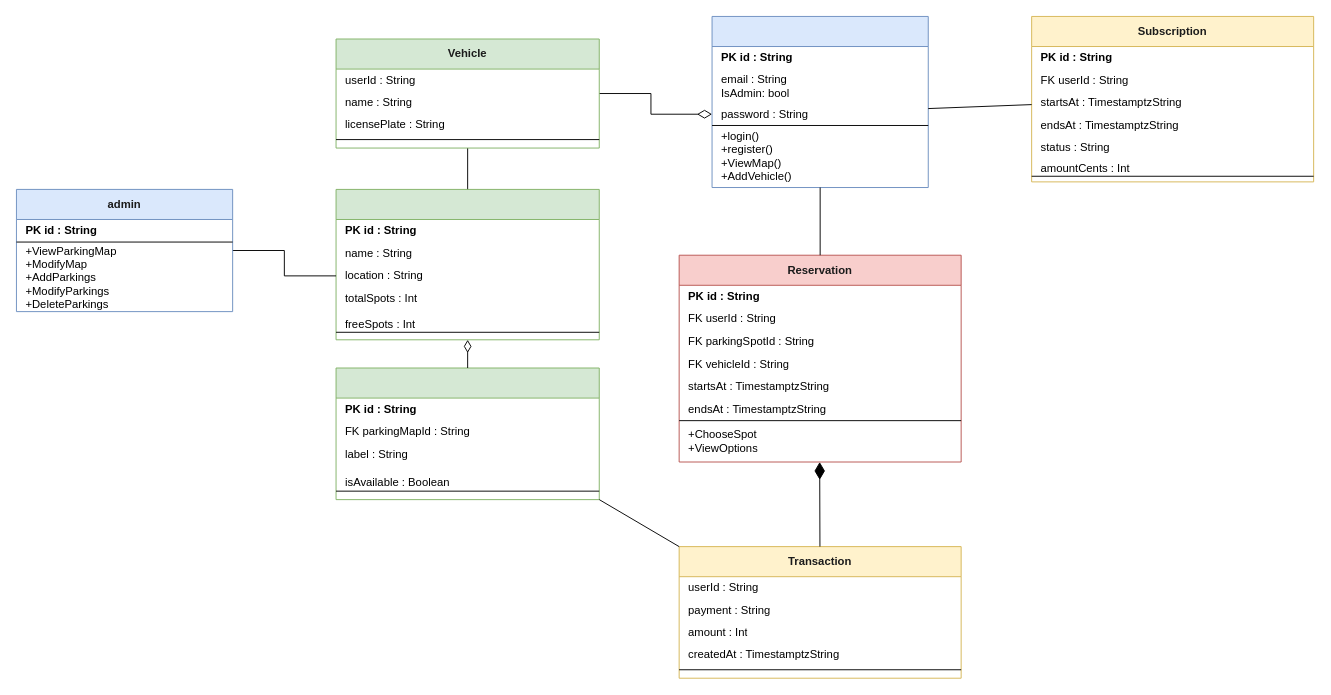
Some shapes in this 1331 by 695 pixel diagram are drawn without their labels. The box of each missing label's shape, as (x1, y1, x2, y2) in pixels:
ParkingMap: (335, 188, 599, 340)
ParkingSpot: (335, 367, 599, 500)
user: (711, 16, 928, 188)
